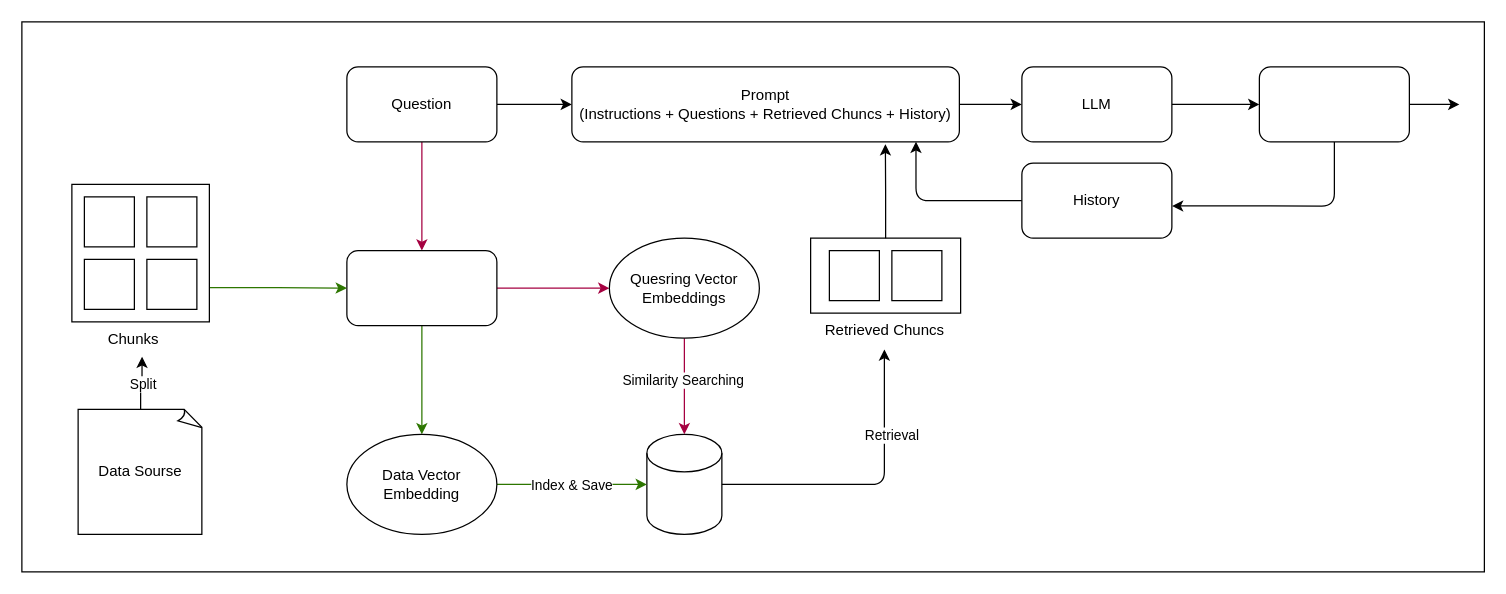
Some shapes in this 1506 by 594 pixel diagram are drawn without their labels. Here are the shapes that lost their labels. From the top down, the centre of each, then its label:
(1333,104): Response
(421,287): Embedding Model
(684,483): Vector DB
